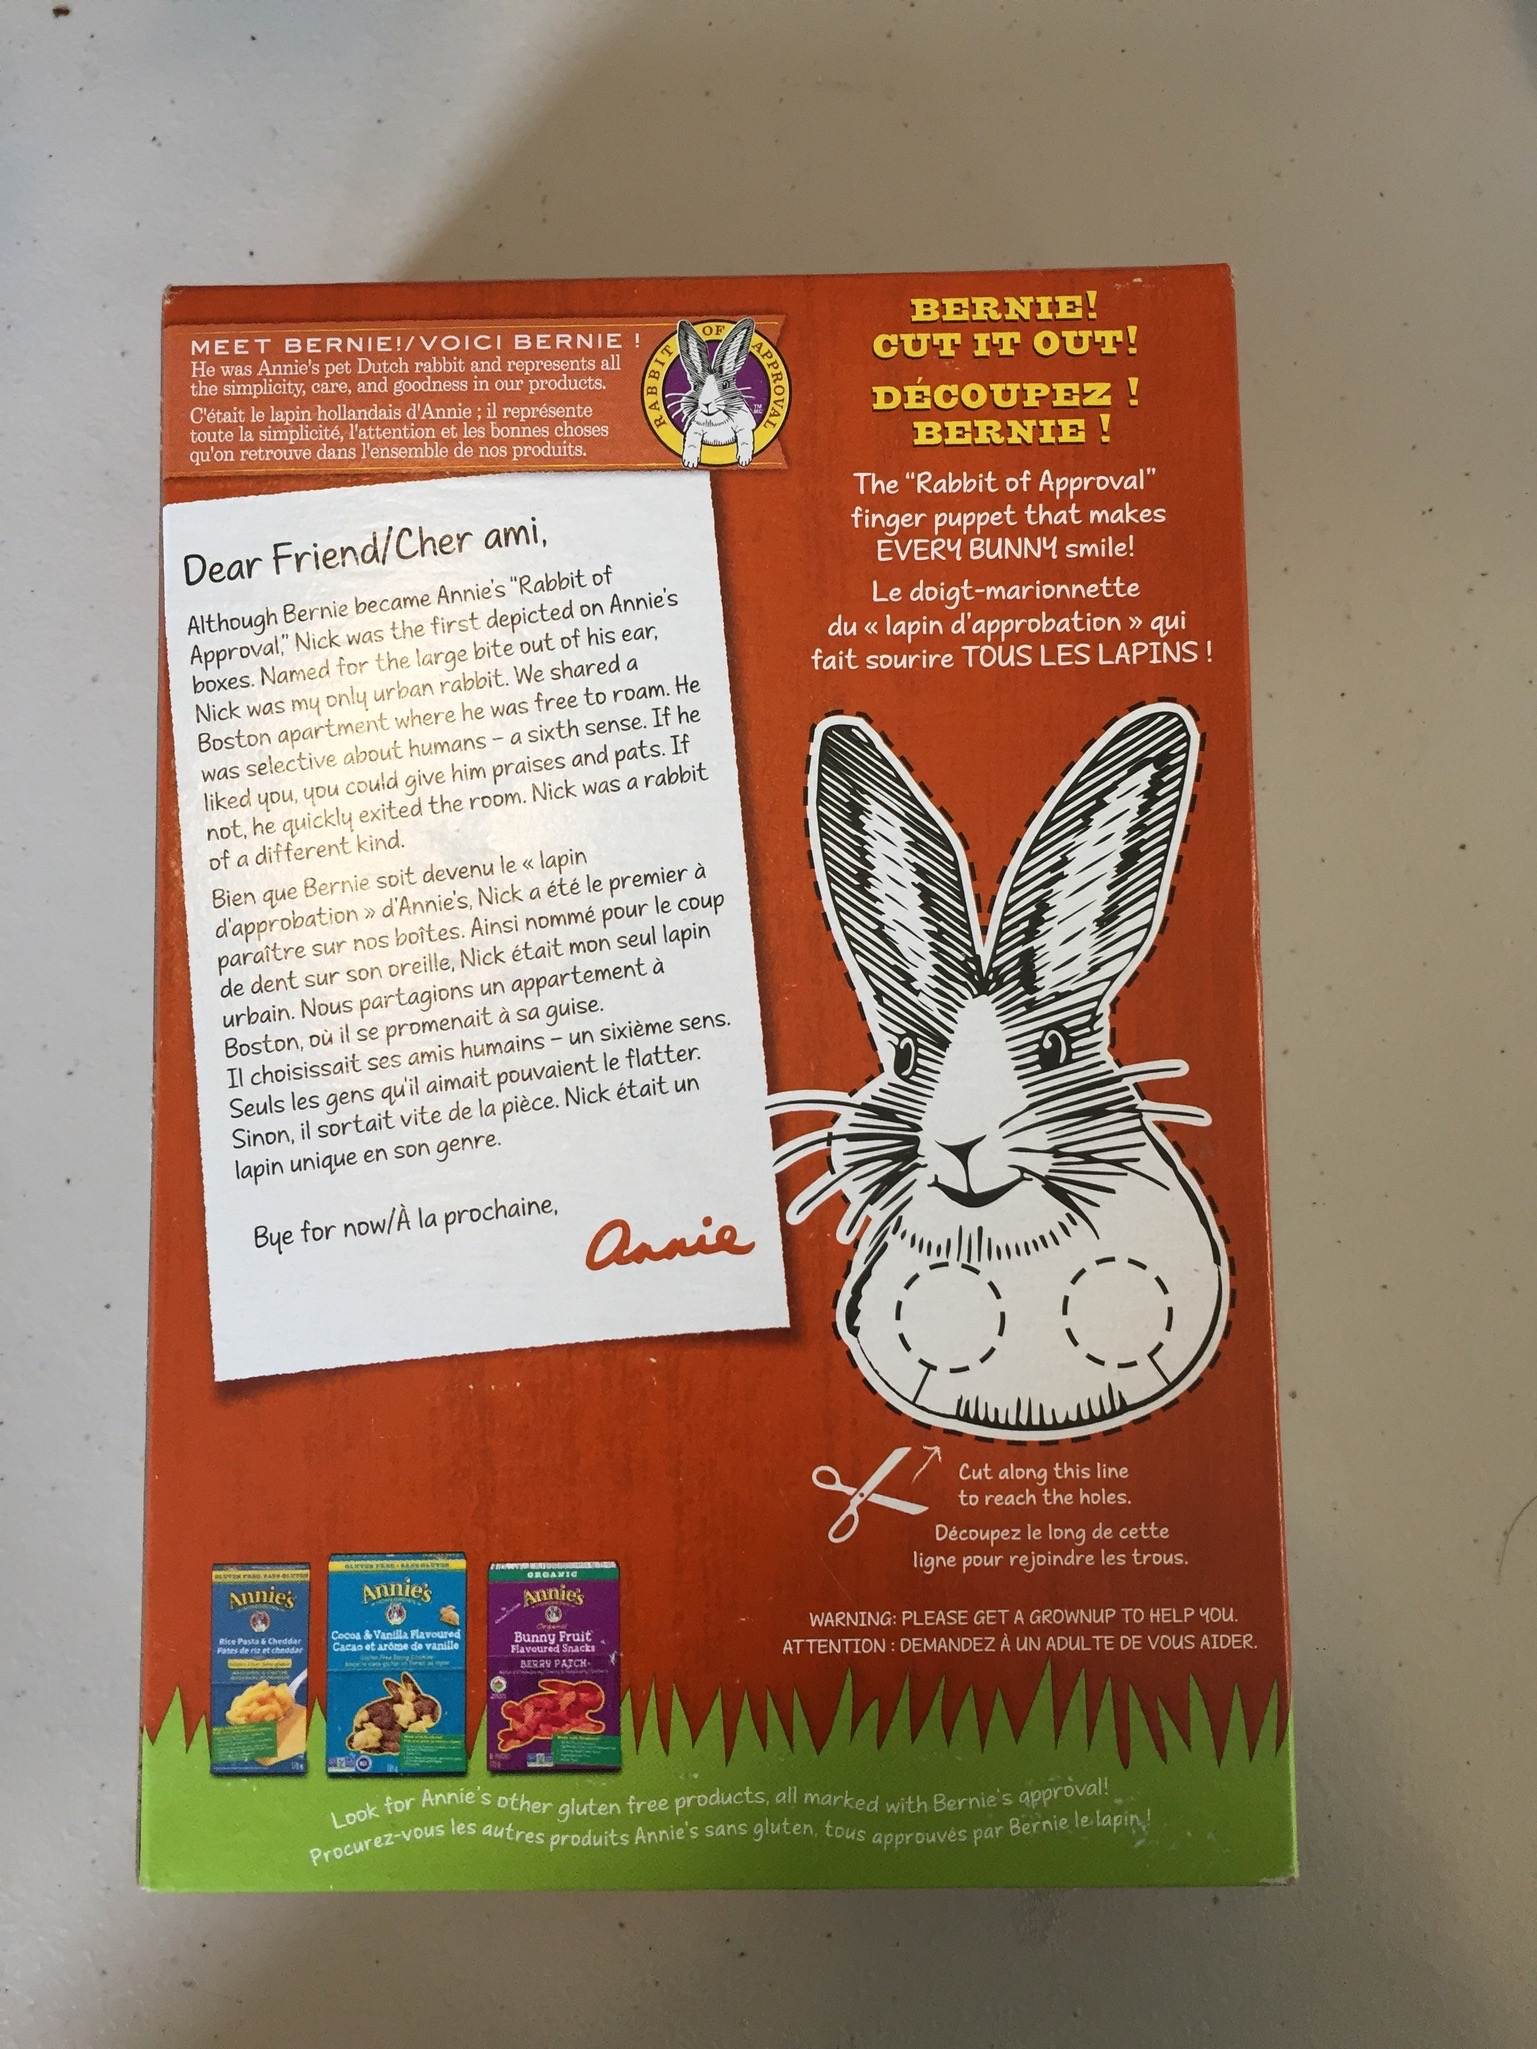annies_snickerdoodle_cinnamon_sugar: (178, 302, 1235, 1837)
